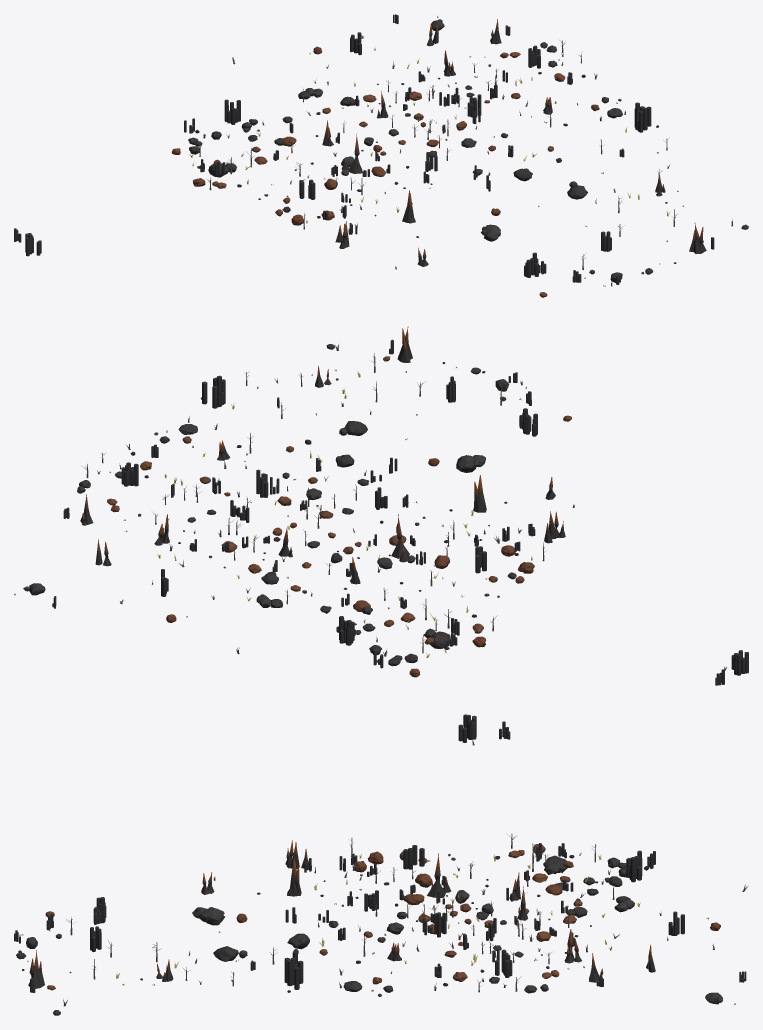
The model's file is ash_land_scatter_c14_29.glb.
3 renders of one model, top to bottom at view 1: azimuth 30°, elevation 25°; view 2: azimuth 150°, elevation 25°; view 3: azimuth 270°, elevation 25°, orthographic. The views are drawn at different scales.
Parts seen in each view (by area): view 1: ash_land_scatter_c14_29; view 2: ash_land_scatter_c14_29; view 3: ash_land_scatter_c14_29.
Part boxes in pixels (left/top/right/bottom): ash_land_scatter_c14_29: left=14, top=14, right=748, bottom=297; ash_land_scatter_c14_29: left=14, top=326, right=748, bottom=685; ash_land_scatter_c14_29: left=14, top=714, right=748, bottom=1015.
Size of the model in its own units: 259 by 35.58 by 253.
